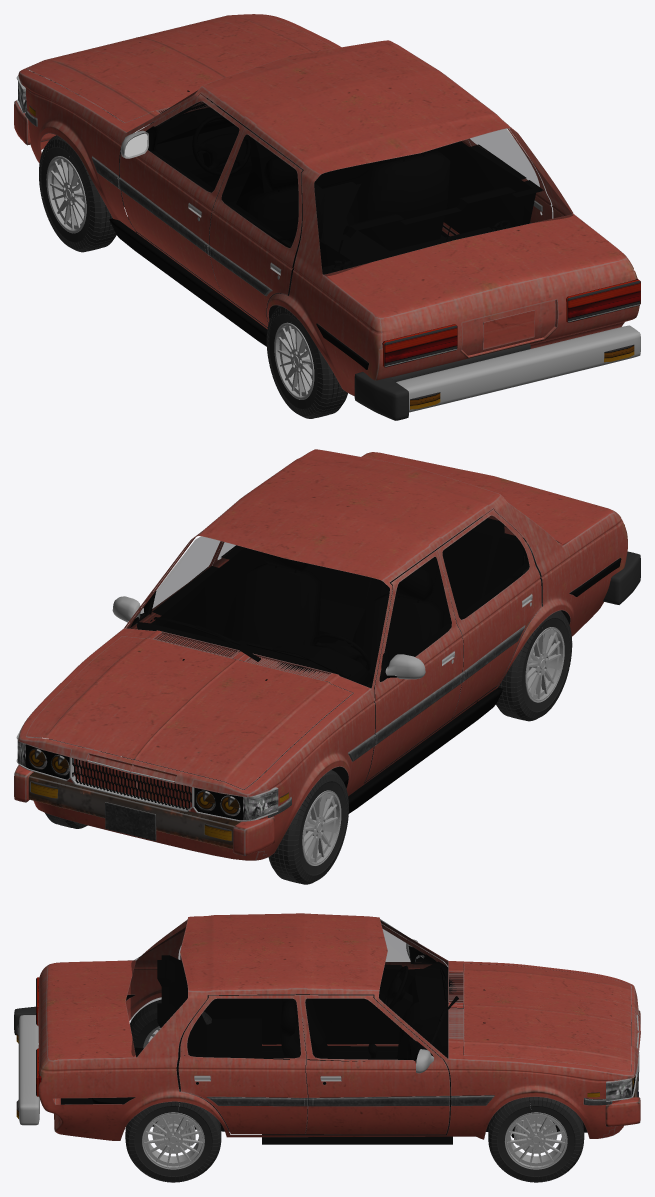
3 views of the same model, one above another, from view 1: azimuth 30°, elevation 25°; view 2: azimuth 150°, elevation 25°; view 3: azimuth 270°, elevation 25° (orthographic). The views are drawn at different scales.
Parts seen in each view (by area): view 1: rear_window, roof, unclassified_17, unclassified_10, hood, trunk_lid, unclassified, rear_bumper_4, body_paint, door_front_left, rear_bumper, door_rear_left (+17 smaller); view 2: hood, windshield, roof, unclassified_17, unclassified_10, unclassified, front_bumper_5, body_paint, door_front_left, door_rear_left, seat_passenger, seat_rear (+17 smaller); view 3: unclassified_17, unclassified_10, hood, roof, unclassified, door_rear_right, body_paint, trunk_lid, door_front_right, windshield, rear_window, rim_rear_right (+18 smaller).
Boxes of the visible parts, x1,y1,x2,y2 form: rear_window: (314,129,572,275); roof: (209,47,522,195); unclassified_17: (25,40,608,380); unclassified_10: (136,106,543,318); hood: (27,14,334,123); trunk_lid: (347,226,625,329); unclassified: (154,102,302,254); rear_bumper_4: (351,269,639,380); body_paint: (18,14,633,396); door_front_left: (118,94,244,294); rear_bumper: (396,325,640,412); door_rear_left: (208,127,302,326); hood: (26,630,353,795); windshield: (127,536,389,687); roof: (209,450,512,575); unclassified_17: (41,449,608,840); unclassified_10: (137,517,529,786); unclassified: (385,511,536,660); front_bumper_5: (14,760,297,860); body_paint: (18,452,621,797); door_front_left: (365,549,463,781); door_rear_left: (437,509,541,718); seat_passenger: (221,552,321,646); seat_rear: (349,567,444,751); unclassified_17: (70,916,639,1139); unclassified_10: (157,955,463,1144); hood: (448,963,640,1071); roof: (188,913,360,1009); unclassified: (178,999,418,1058); door_rear_right: (178,995,307,1134); body_paint: (40,922,640,1140); trunk_lid: (41,964,125,1063); door_front_right: (300,995,450,1097); windshield: (379,919,447,1057); rear_window: (131,927,187,1056); rim_rear_right: (142,1105,204,1169).
Size of the model in its own units: 189 by 139 by 415.
Materials: 10 (4 with a texture image).
